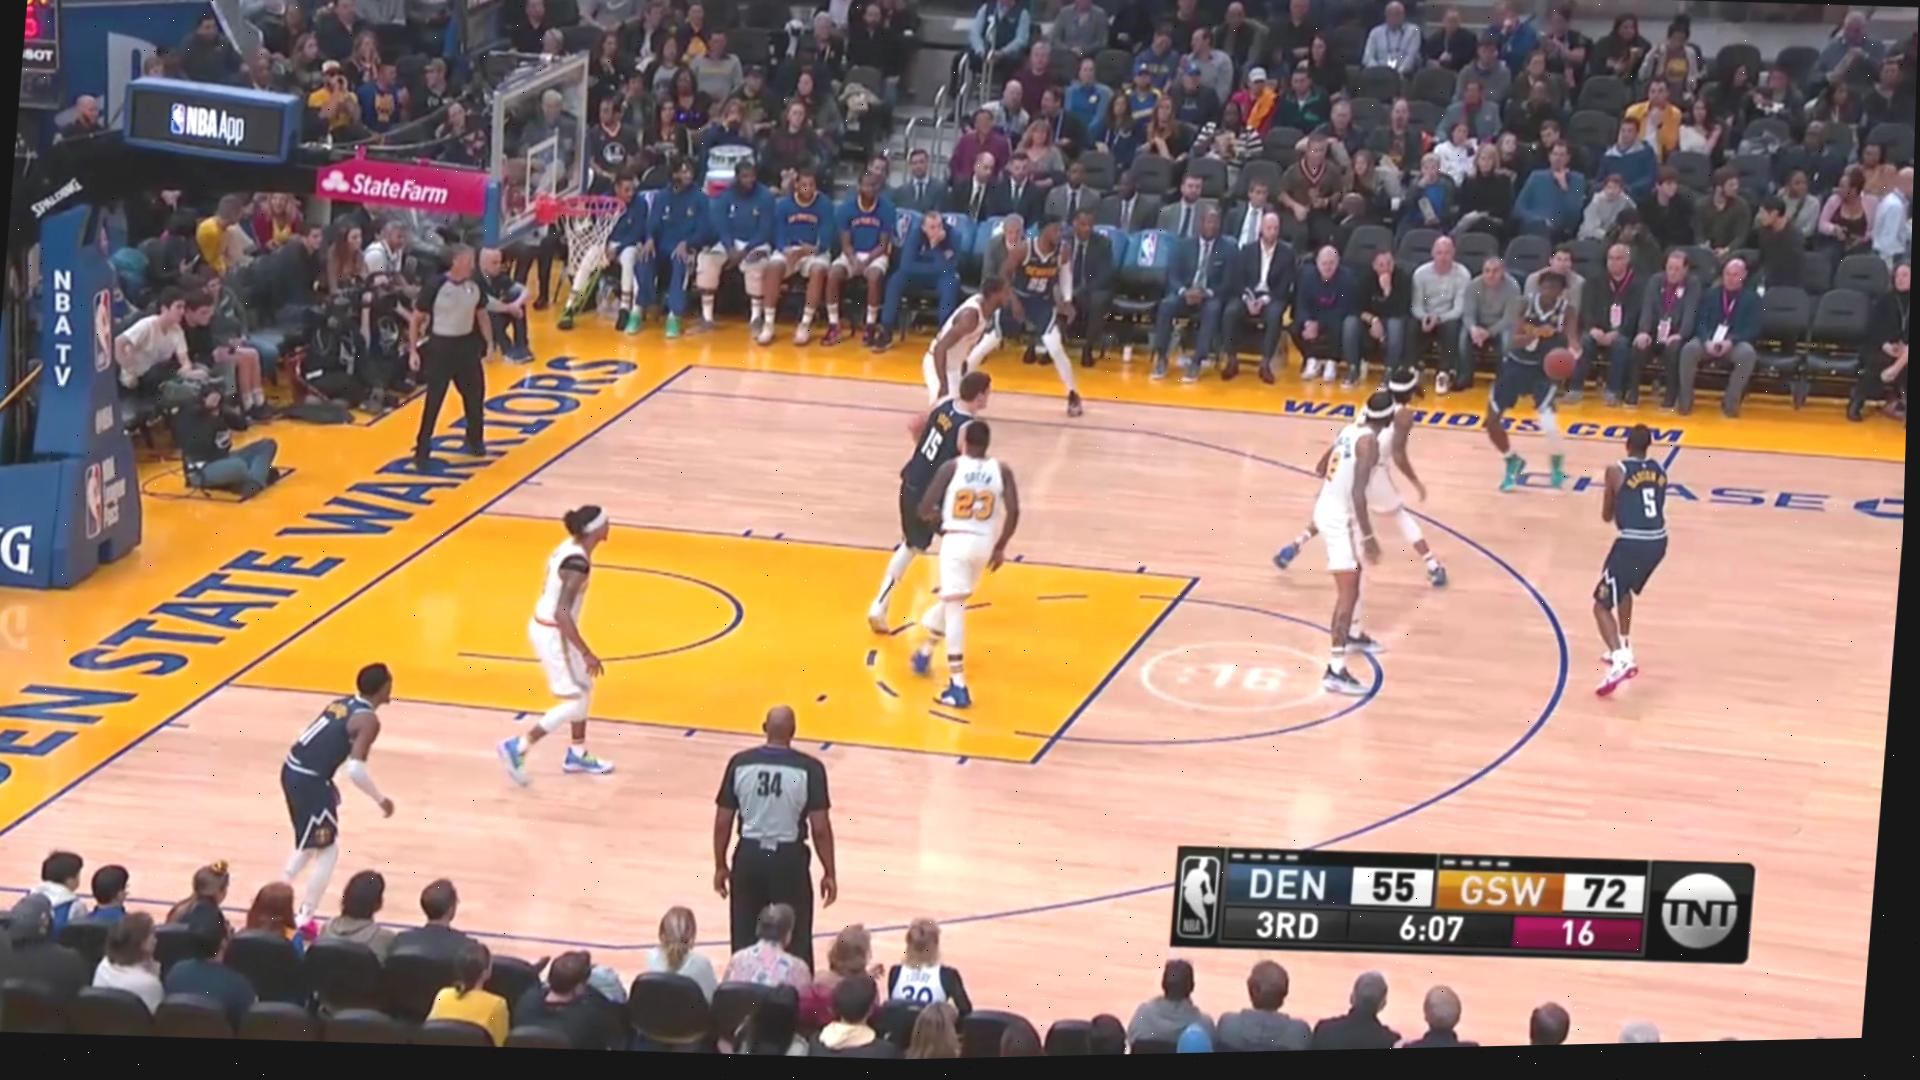no_foul: (880, 357, 1034, 699)
